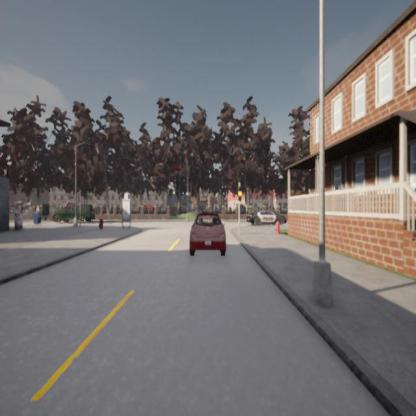traffic_light_orange: (238, 186, 242, 201)
vehicle: (188, 212, 225, 255), (254, 210, 275, 223)
